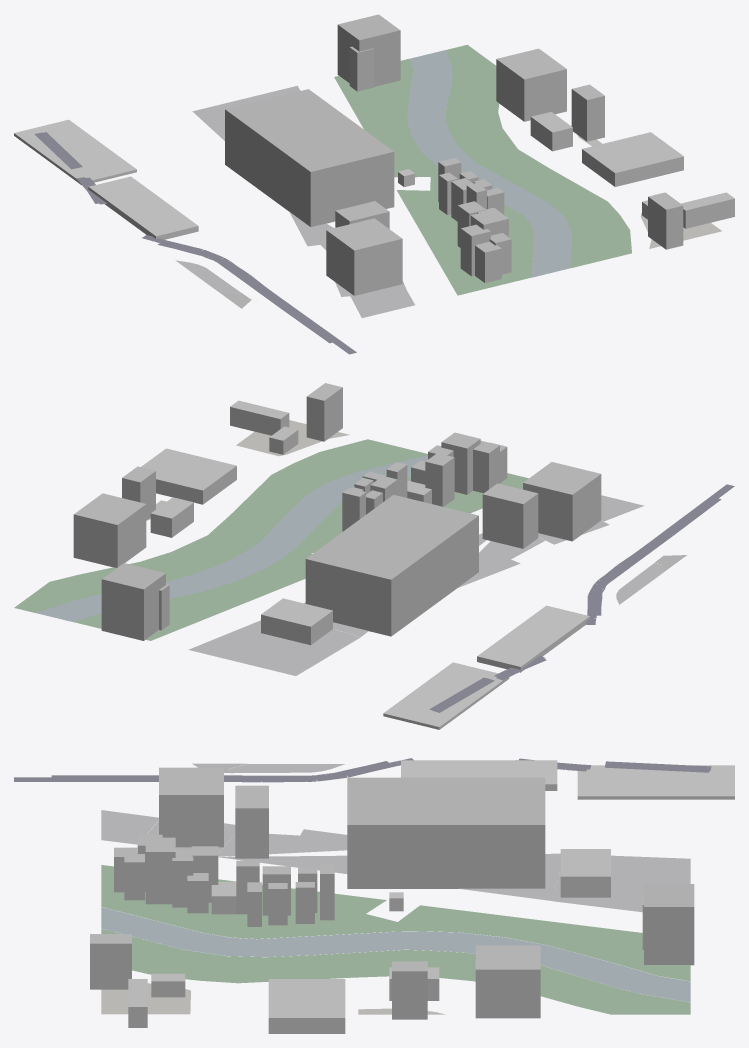
Rendered from 103_107_mid.glb.
3 views of the same model, one above another, from view 1: azimuth 30°, elevation 25°; view 2: azimuth 150°, elevation 25°; view 3: azimuth 270°, elevation 25° (orthographic). The views are drawn at different scales.
Bounding box in the file's own units: 544 × 60.69 × 612.
